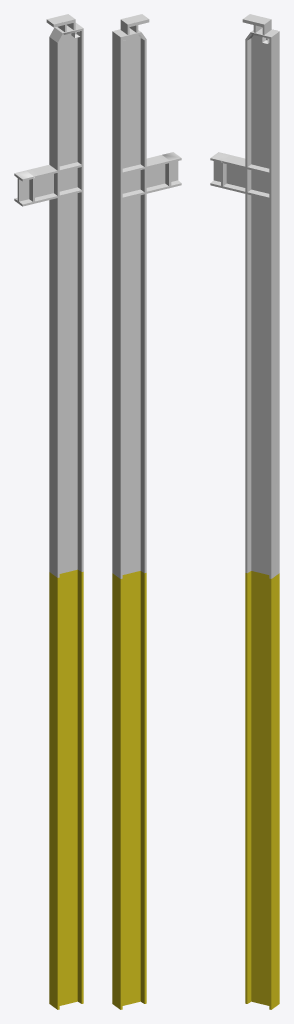
Rendered from truss-column.fbx.
The picture shows the model from 3 angles, left to right: view 1: azimuth 30°, elevation 25°; view 2: azimuth 210°, elevation 25°; view 3: azimuth 330°, elevation 25°; orthographic projection.
Visible parts, largest first — view 1: gantry-side-2.020; view 2: gantry-side-2.020; view 3: gantry-side-2.020.
Part boxes in pixels (x1=…): gantry-side-2.020: x1=14, y1=14, x2=83, y2=1009; gantry-side-2.020: x1=112, y1=14, x2=181, y2=1009; gantry-side-2.020: x1=210, y1=14, x2=279, y2=1009.
Bounding box in the file's own units: 82.21 × 1264 × 19.72.
